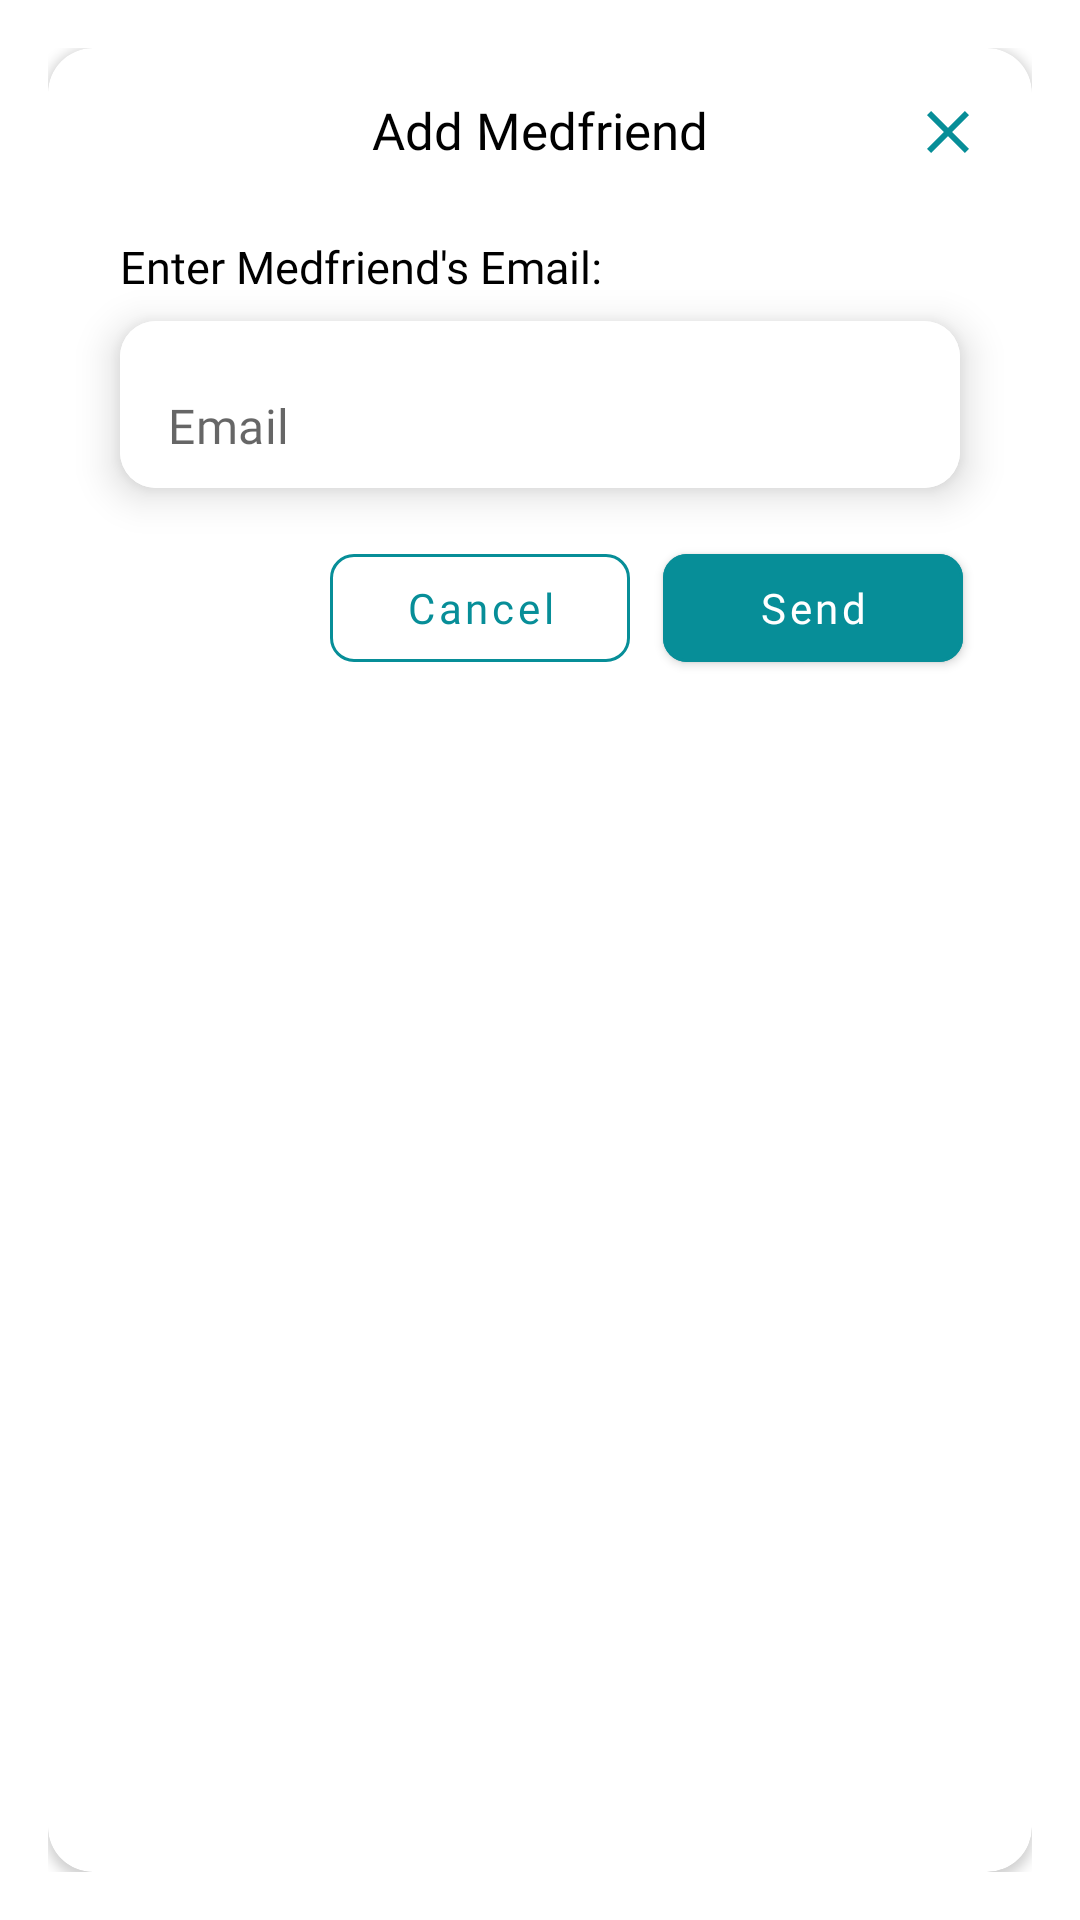

Icon click points for this 1080px x 1920px phone screenshot, format point (x, y):
close: point (948, 132)
